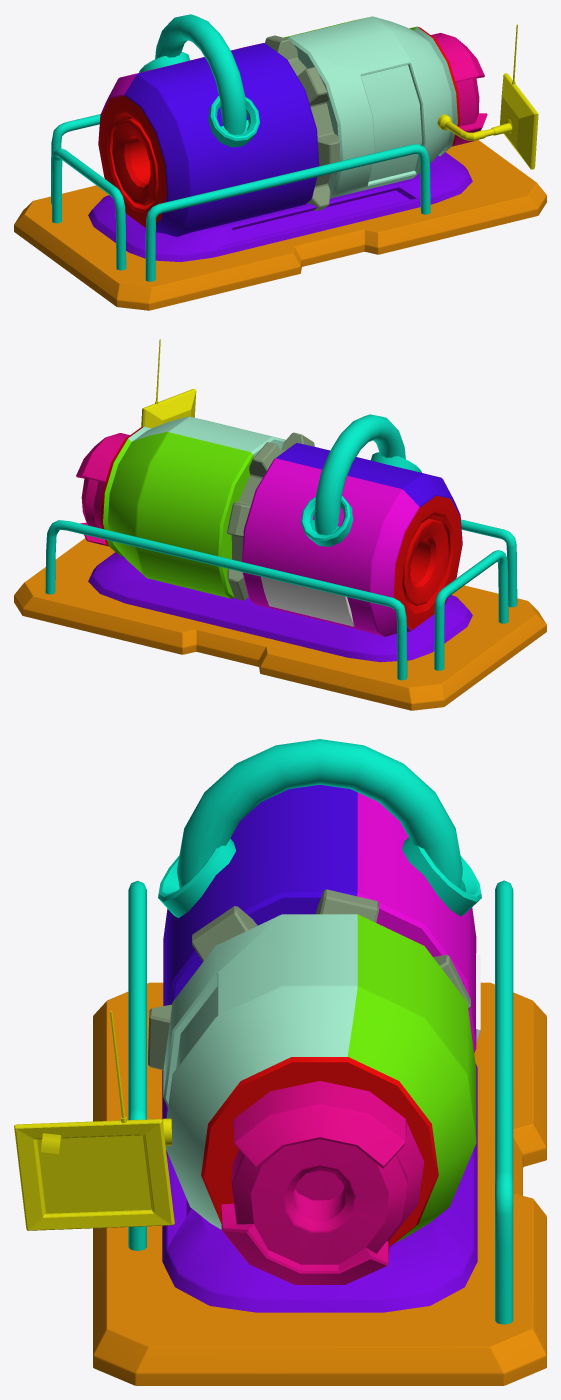
Rendered from Electric_generator_anim.fbx.
The picture shows the model from 3 angles, top to bottom: view 1: azimuth 30°, elevation 25°; view 2: azimuth 150°, elevation 25°; view 3: azimuth 270°, elevation 25°; orthographic projection. The views are drawn at different scales.
Parts seen in each view (by area): view 1: MESH_Machine, MESH_Wheel; view 2: MESH_Machine, MESH_Wheel; view 3: MESH_Machine, MESH_Wheel.
Boxes of the visible parts, box(x1,y1,x2,y2) form: MESH_Machine: box(14, 14, 546, 310); MESH_Wheel: box(265, 35, 339, 210); MESH_Machine: box(14, 339, 546, 710); MESH_Wheel: box(227, 432, 314, 600); MESH_Machine: box(14, 739, 546, 1385); MESH_Wheel: box(148, 889, 470, 1069).
Bounding box in the file's own units: 10.61 × 5.09 × 6.36.
